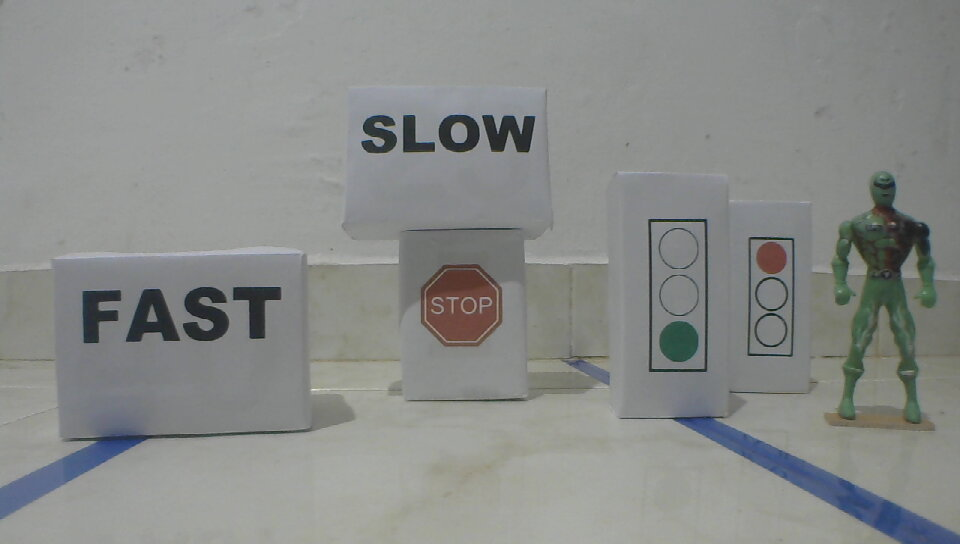Fast: (80, 286, 285, 346)
Green Traffic Light: (645, 217, 711, 376)
Person: (829, 168, 942, 428)
Red Traffic Light: (745, 234, 798, 360)
Slow: (357, 111, 541, 159)
Stop Sign: (419, 261, 505, 348)
